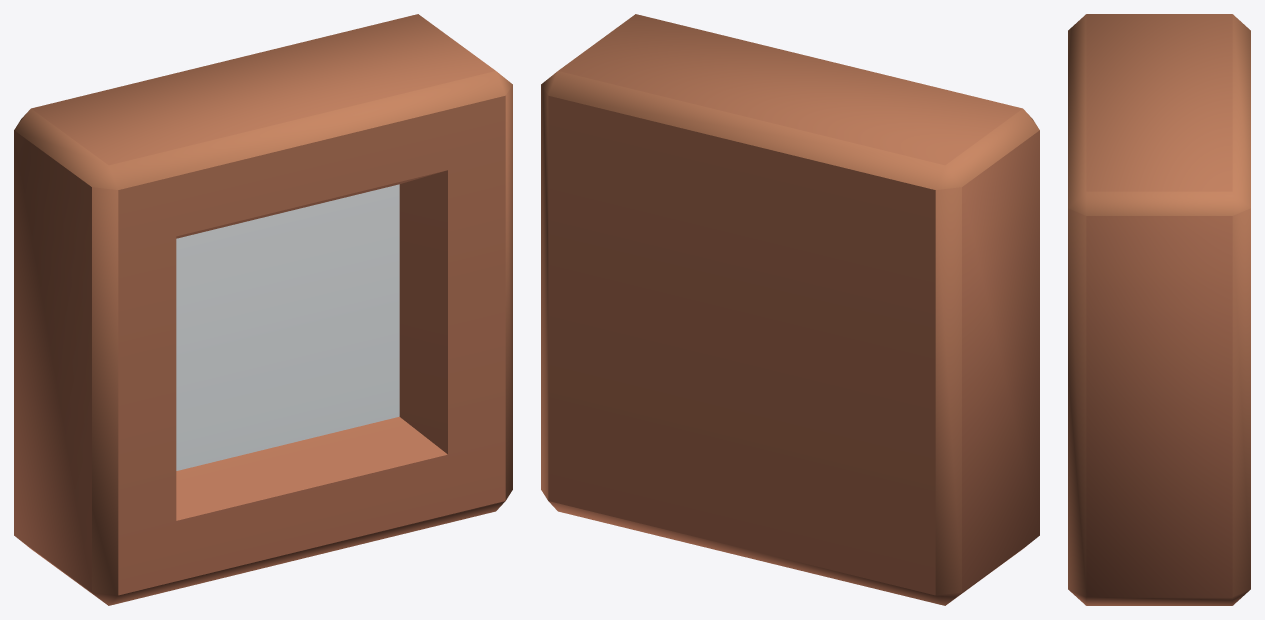
Rendered from pictureframe_small_c.glb.
3 views of the same model, side by side, from view 1: azimuth 30°, elevation 25°; view 2: azimuth 150°, elevation 25°; view 3: azimuth 270°, elevation 25° (orthographic). The views are drawn at different scales.
Parts seen in each view (by area): view 1: pictureframe_small_C; view 2: pictureframe_small_C; view 3: pictureframe_small_C.
Boxes of the visible parts, x1,y1,x2,y2 form: pictureframe_small_C: (14,14,512,605); pictureframe_small_C: (541,14,1039,605); pictureframe_small_C: (1068,14,1250,605).
Bounding box in the file's own units: 0.35 × 0.35 × 0.14.
1 material, 1 textured.
